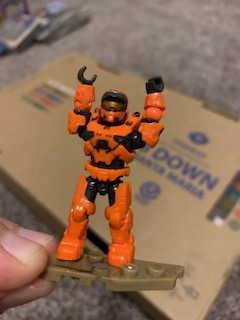spartan: (54, 65, 166, 265)
up: (65, 66, 165, 168)
